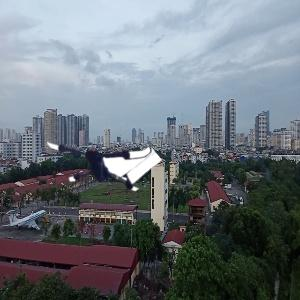drone: (48, 111, 148, 211)
